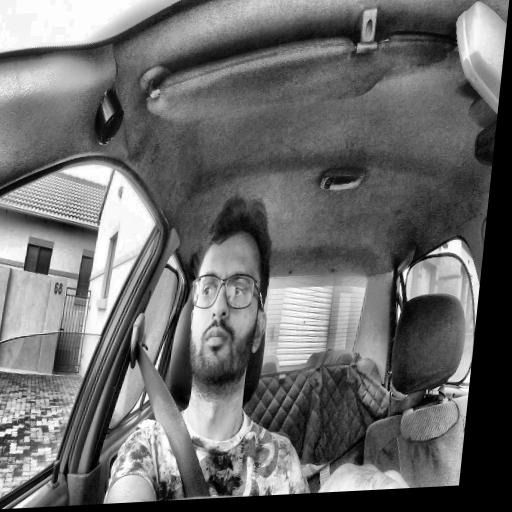awake: (181, 193, 280, 390)
